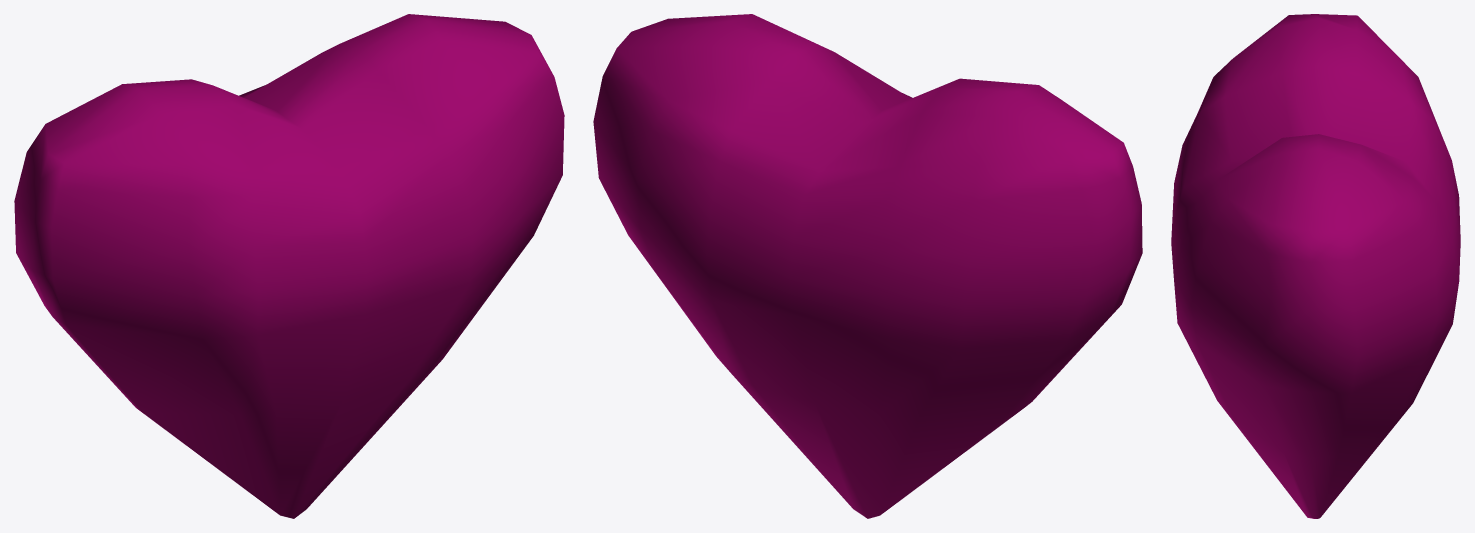
File: heart.fbx
3 renders of one model, left to right at view 1: azimuth 30°, elevation 25°; view 2: azimuth 150°, elevation 25°; view 3: azimuth 270°, elevation 25°, orthographic. The views are drawn at different scales.
Parts seen in each view (by area): view 1: pCube7; view 2: pCube7; view 3: pCube7.
Part boxes in pixels (x1=…): pCube7: x1=14, y1=14, x2=564, y2=518; pCube7: x1=593, y1=14, x2=1142, y2=518; pCube7: x1=1171, y1=14, x2=1460, y2=518.
Size of the model in its own units: 4.88 by 4.17 by 2.53.
